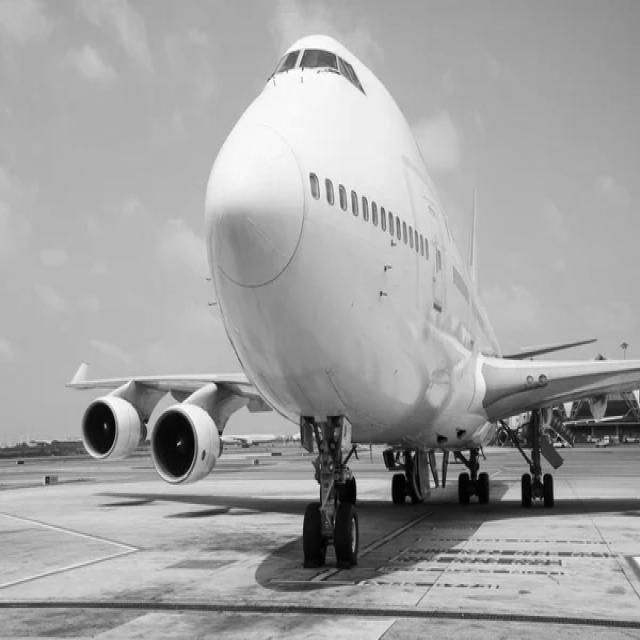Aircraft: (70, 32, 640, 574)
